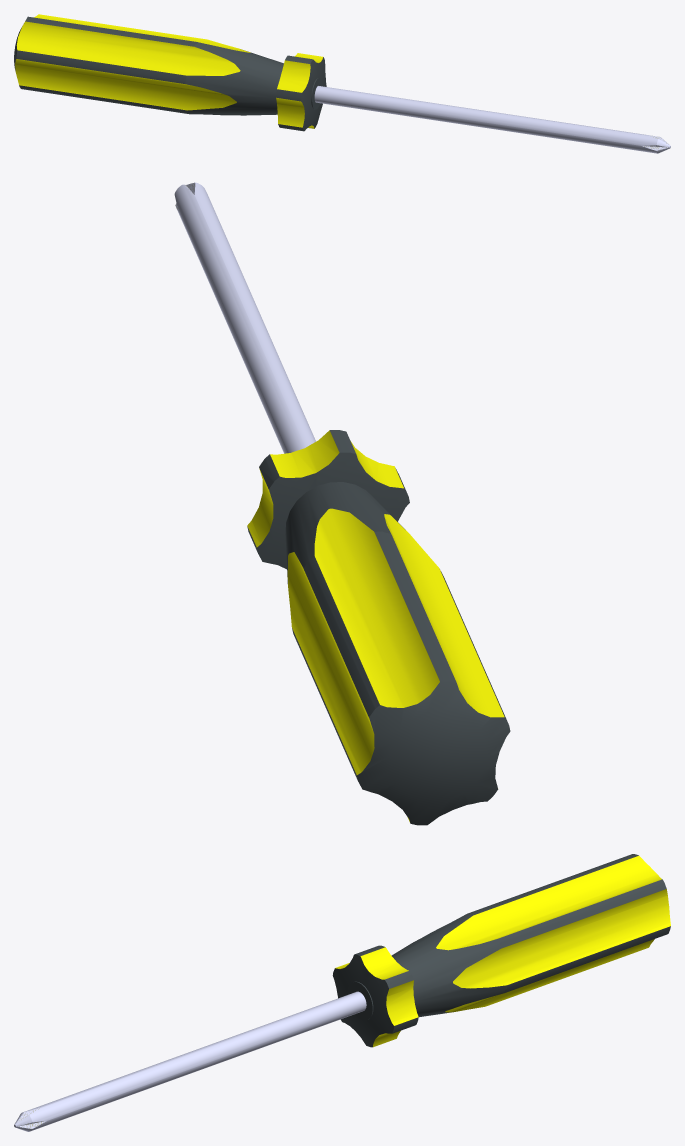
File: Screwdriver+(componentized).dae
3 renders of one model, top to bottom at view 1: azimuth 30°, elevation 25°; view 2: azimuth 150°, elevation 25°; view 3: azimuth 270°, elevation 25°, orthographic. The views are drawn at different scales.
Visible parts, largest first — view 1: Handle_Grip (×4), Shaft, Handle__Nut_ (×3); view 2: Handle_Grip (×4), Shaft, Handle__Nut_ (×3); view 3: Handle_Grip (×4), Shaft, Handle__Nut_ (×3), Handle_Lip.
Part boxes in pixels (x1,y1,x2,y2): Handle_Grip (×4): (14,14,283,115); Shaft: (314,86,670,153); Handle__Nut_ (×3): (276,55,326,131); Handle_Grip (×4): (285,482,510,825); Shaft: (174,182,315,453); Handle__Nut_ (×3): (247,430,409,569); Handle_Grip (×4): (391,854,670,1017); Shaft: (14,991,366,1131); Handle__Nut_ (×3): (332,945,418,1047); Handle_Lip: (347,981,373,1020).
Bounding box in the file's own units: 7.05 × 8.09 × 1.19.
